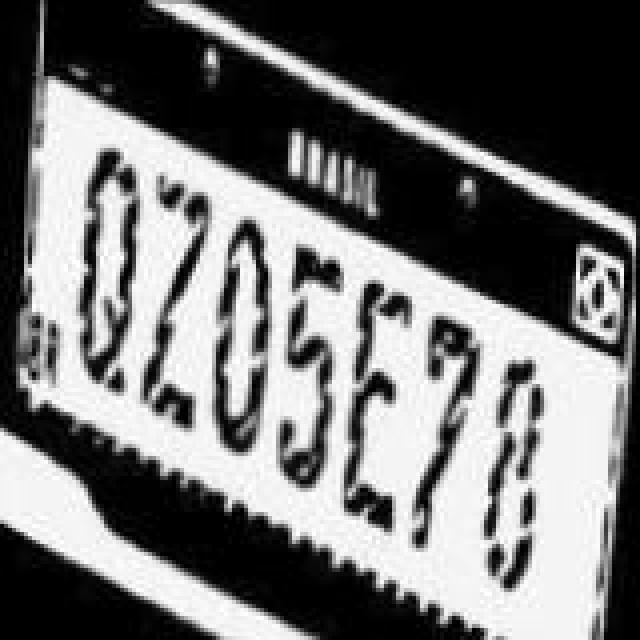5: (270, 236, 342, 496)
7: (410, 304, 486, 556)
8: (478, 358, 546, 602)
E: (342, 274, 414, 542)
O: (210, 212, 278, 460)
Q: (72, 142, 140, 394)
Z: (134, 166, 210, 434)
